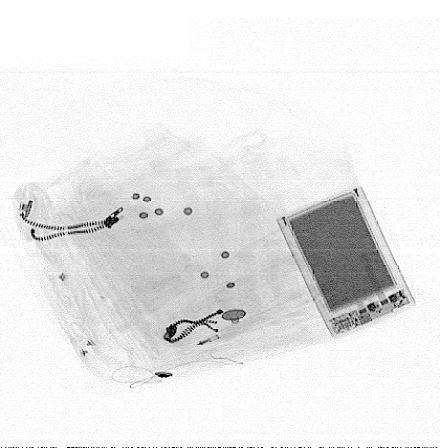Powerbank: (277, 185, 417, 340)
